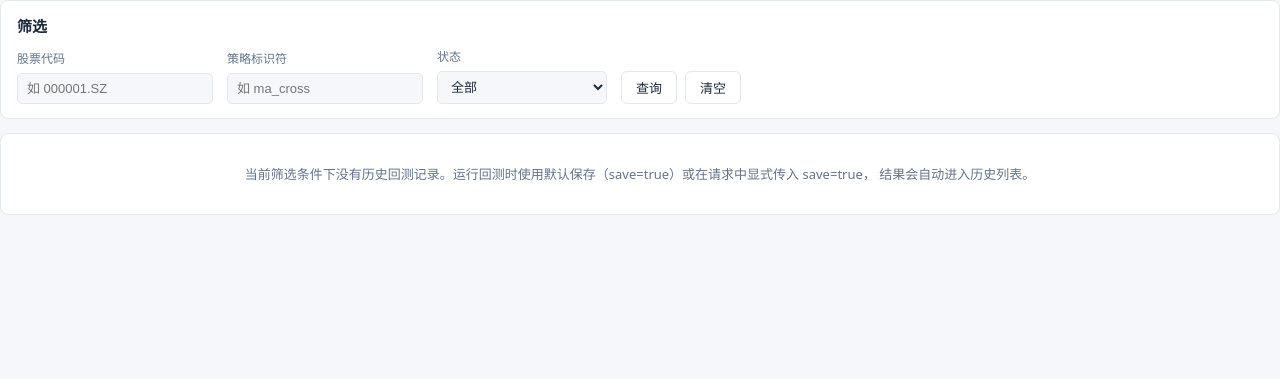
Test: HistoryList › 筛选与查询触发重新加载
The image size is (1280, 379).
Type "000001.SZ" into the field with placeholder "如 000001.SZ".
click(115, 88); type("000001.SZ")  # box [17,73,213,104]
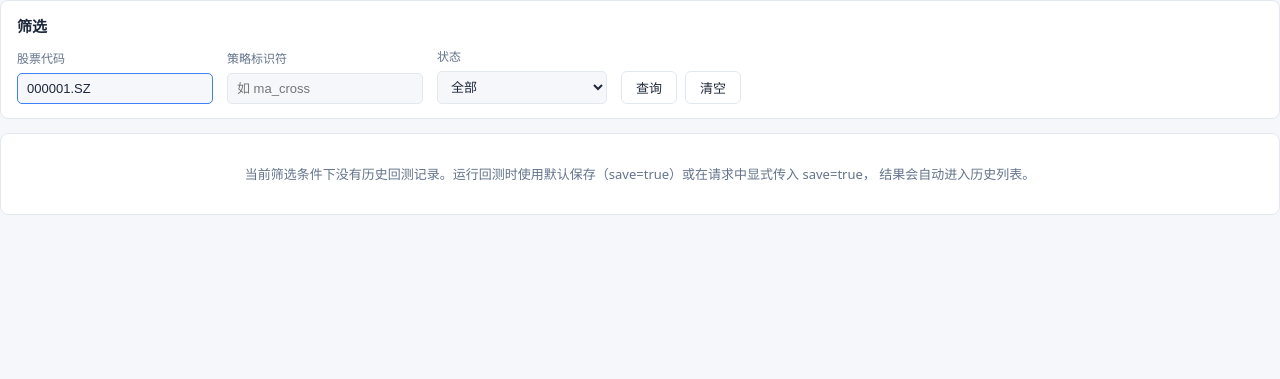
Click the button with test id "filter-apply".
click(649, 87)  # box [621,71,677,104]
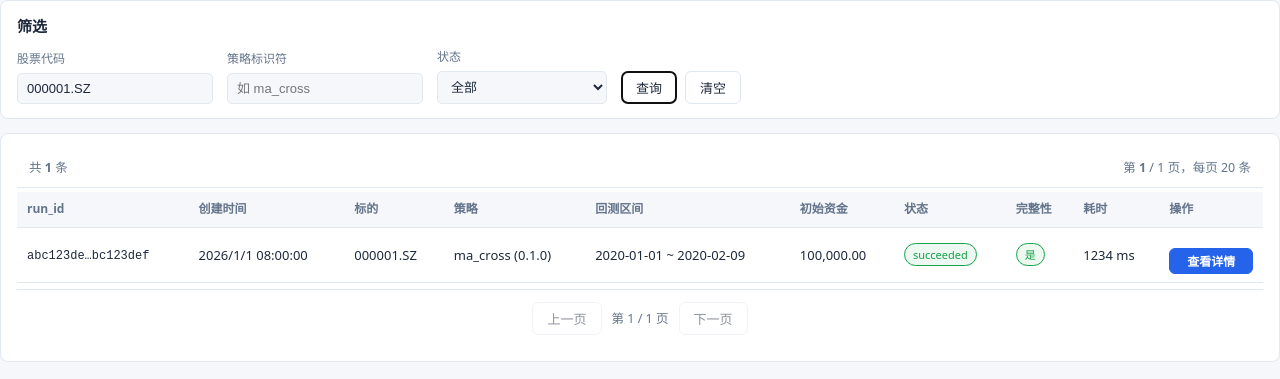
Expected: the cell "000001.SZ" is shown, [344,227,444,282]
